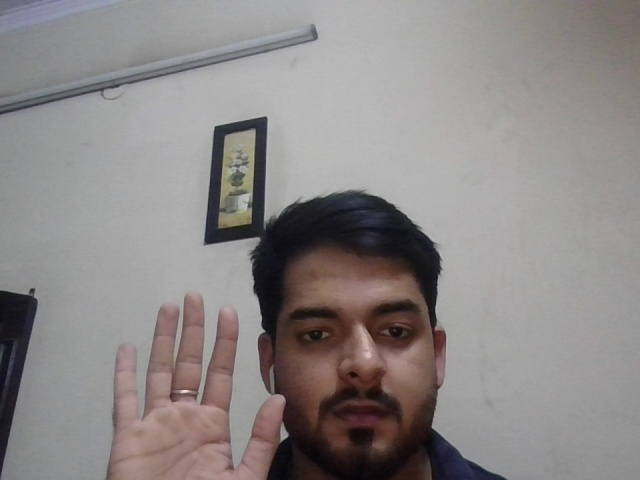hello: (108, 289, 288, 480)
